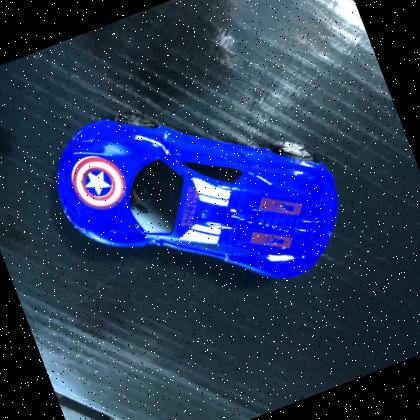Car: (52, 115, 339, 279)
